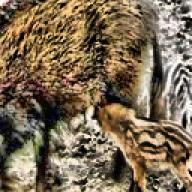boar: (0, 0, 165, 192), (96, 102, 192, 192)
